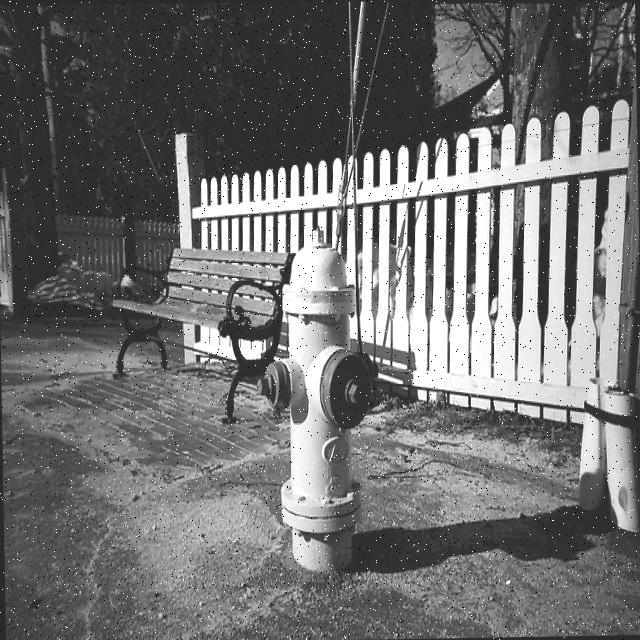fire_hydrant: (254, 220, 378, 577)
